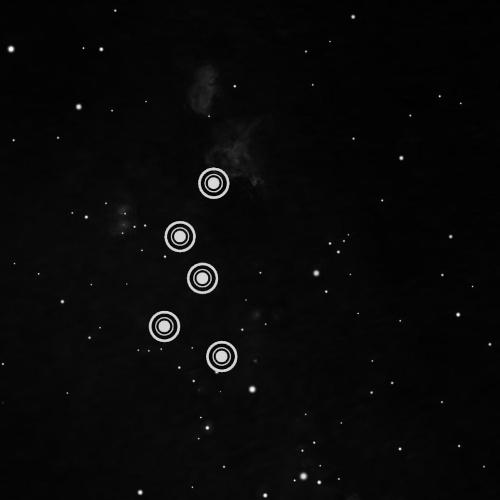cassiopeia: (131, 158, 256, 385)
